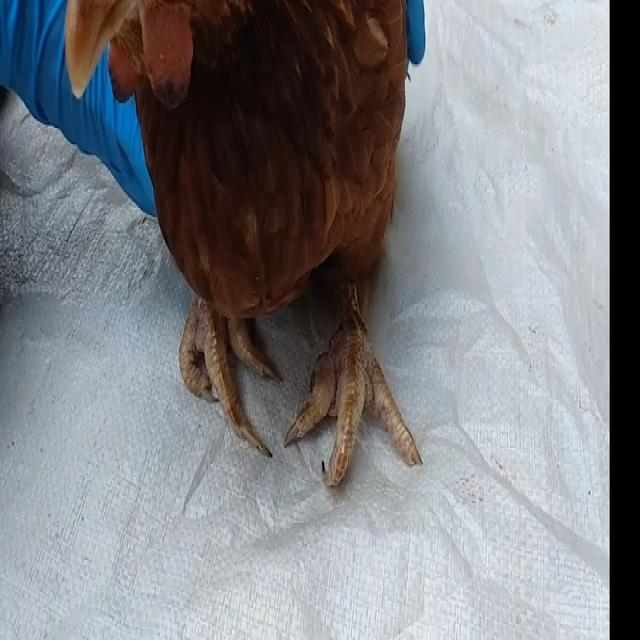bird flu: (64, 0, 438, 508)
